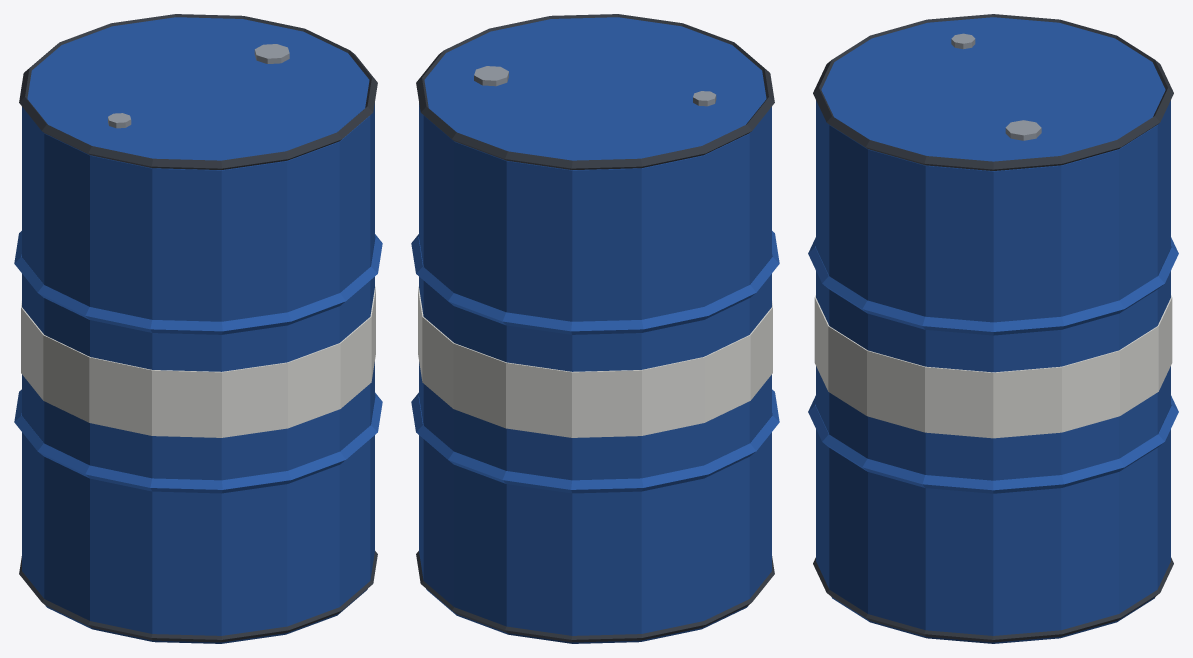
File: Oil_Drum.fbx
3 views of the same model, side by side, from view 1: azimuth 30°, elevation 25°; view 2: azimuth 150°, elevation 25°; view 3: azimuth 270°, elevation 25° (orthographic).
Visible parts, largest first — view 1: Oil_Drum; view 2: Oil_Drum; view 3: Oil_Drum.
Part boxes in pixels (x1,y1,x2,y2): Oil_Drum: (14, 14, 382, 643); Oil_Drum: (411, 14, 779, 643); Oil_Drum: (808, 14, 1178, 643).
Size of the model in its own units: 0.616 by 0.89 by 0.616.
1 material, 1 textured.
